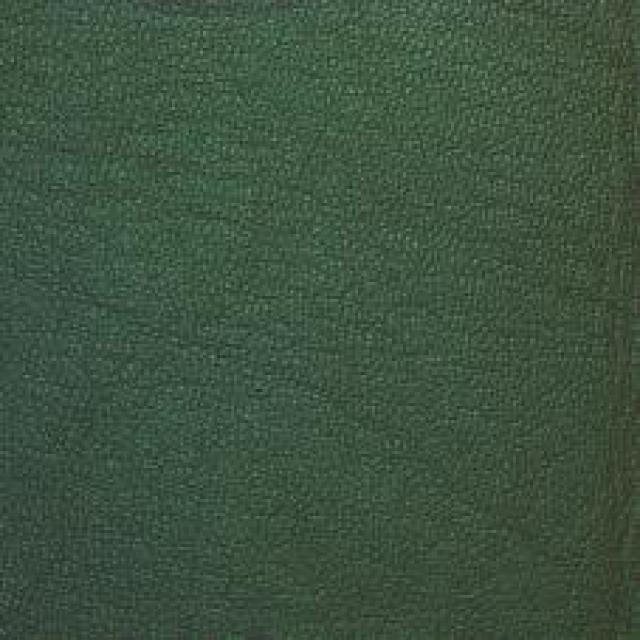Growth Marks: (171, 325, 434, 481), (466, 148, 626, 318), (96, 124, 282, 241)
